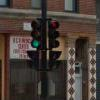Traffic light: (26, 13, 67, 73)
